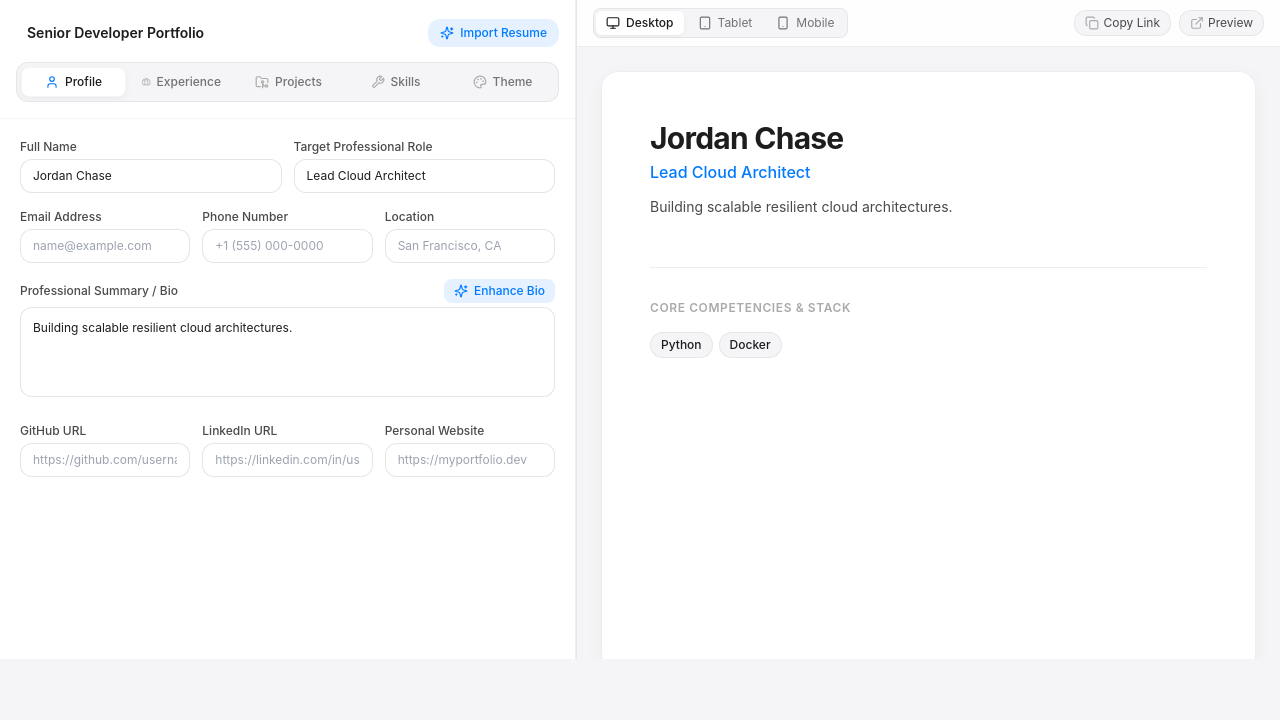
Test case: SplitWorkspace Integration & Synchronization › synchronizes profile form inputs immediately to the live preview
Expected: the heading "Jordan Chase" is shown, [650,120,844,156]
Expected: the text "Lead Cloud Architect" is shown, [650,162,810,182]
Note: Type into Full Name input in ProfileForm
Step 1. Replace the text in the field with placeholder "e.g. Alex Rivera" below "Full Name" with "Taylor Swift" → (151, 176), box [20,159,282,193]
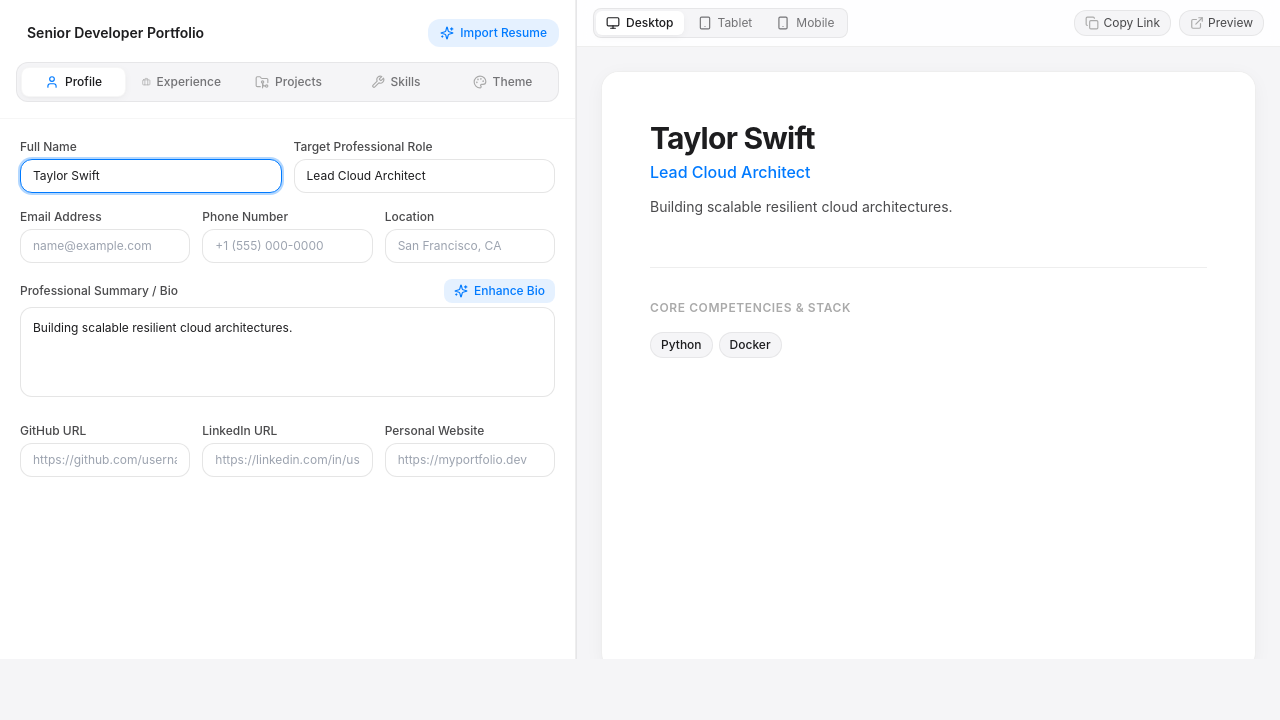
Expected: the heading "Taylor Swift" is shown, [650,120,815,156]
